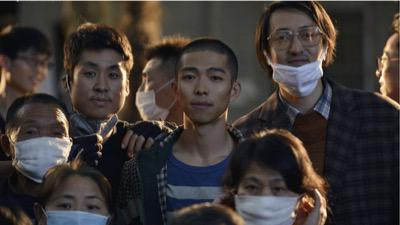mask_weared_incorrect: (266, 24, 323, 98)
with_mask: (12, 117, 71, 181), (232, 174, 301, 224), (44, 189, 109, 224), (133, 70, 176, 121)
without_mask: (70, 61, 126, 122), (176, 64, 230, 125), (11, 53, 49, 92), (374, 47, 399, 97)
